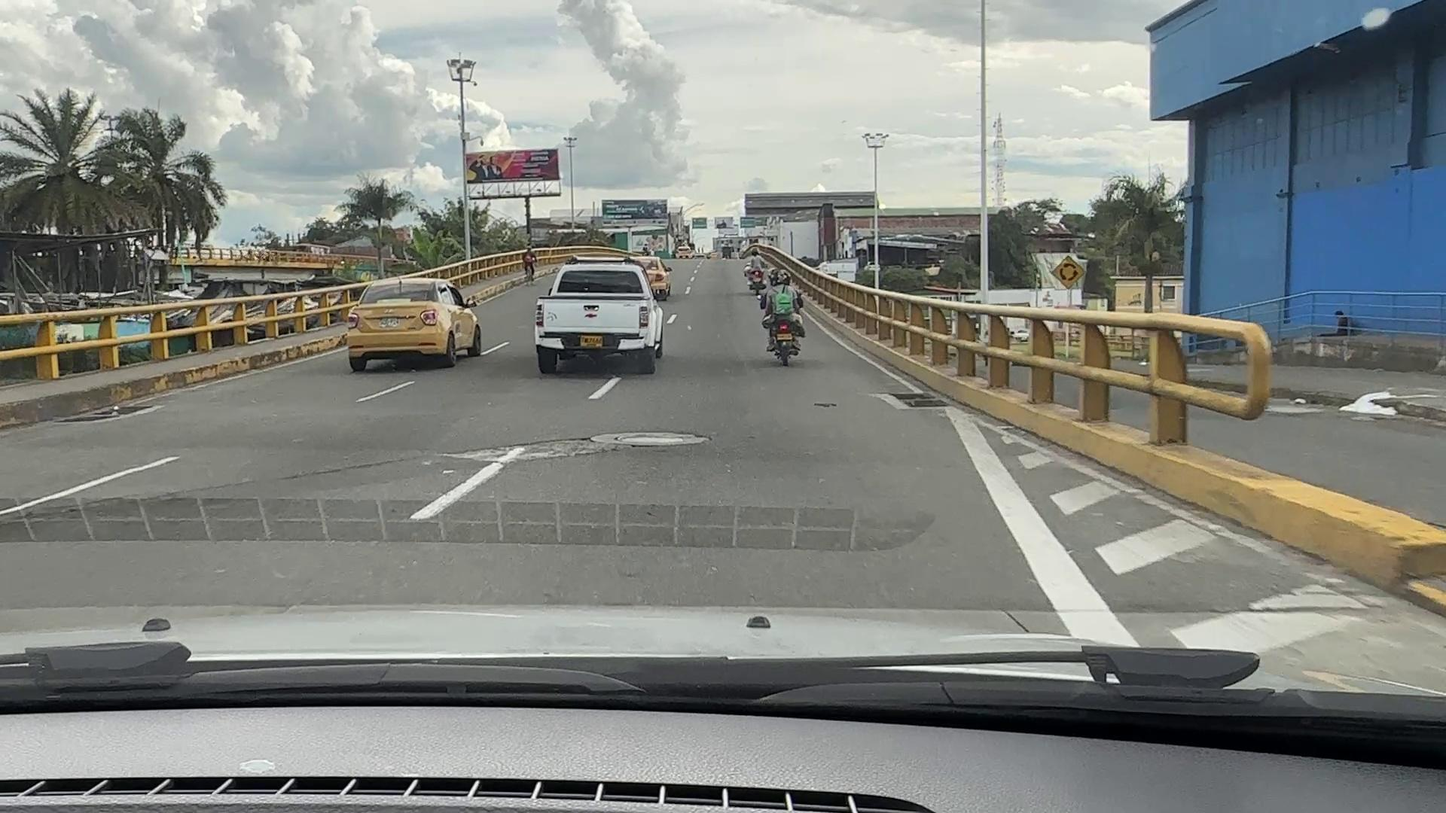bache: (436, 438, 653, 464), (815, 403, 836, 408)
registro: (620, 436, 690, 443)
rejilla: (55, 406, 153, 422), (890, 392, 951, 408)
